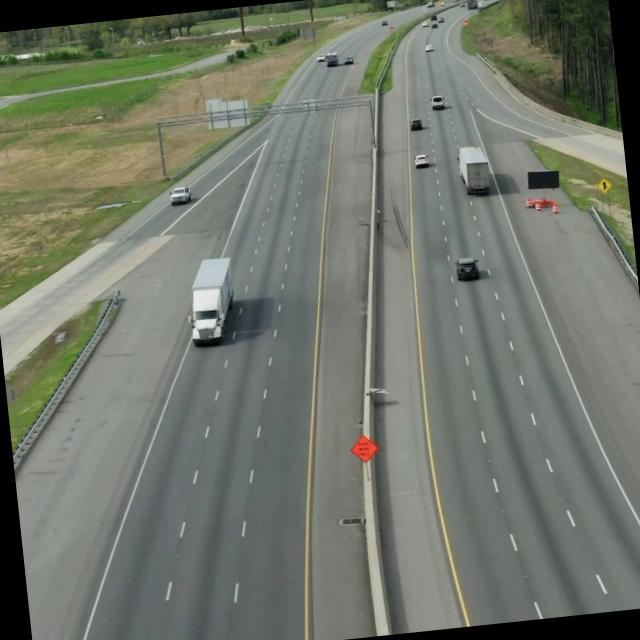Vehicle: (184, 250, 240, 346), (454, 140, 496, 201), (453, 251, 482, 284), (165, 182, 194, 208), (412, 152, 433, 170), (430, 91, 447, 112), (409, 116, 426, 134)
